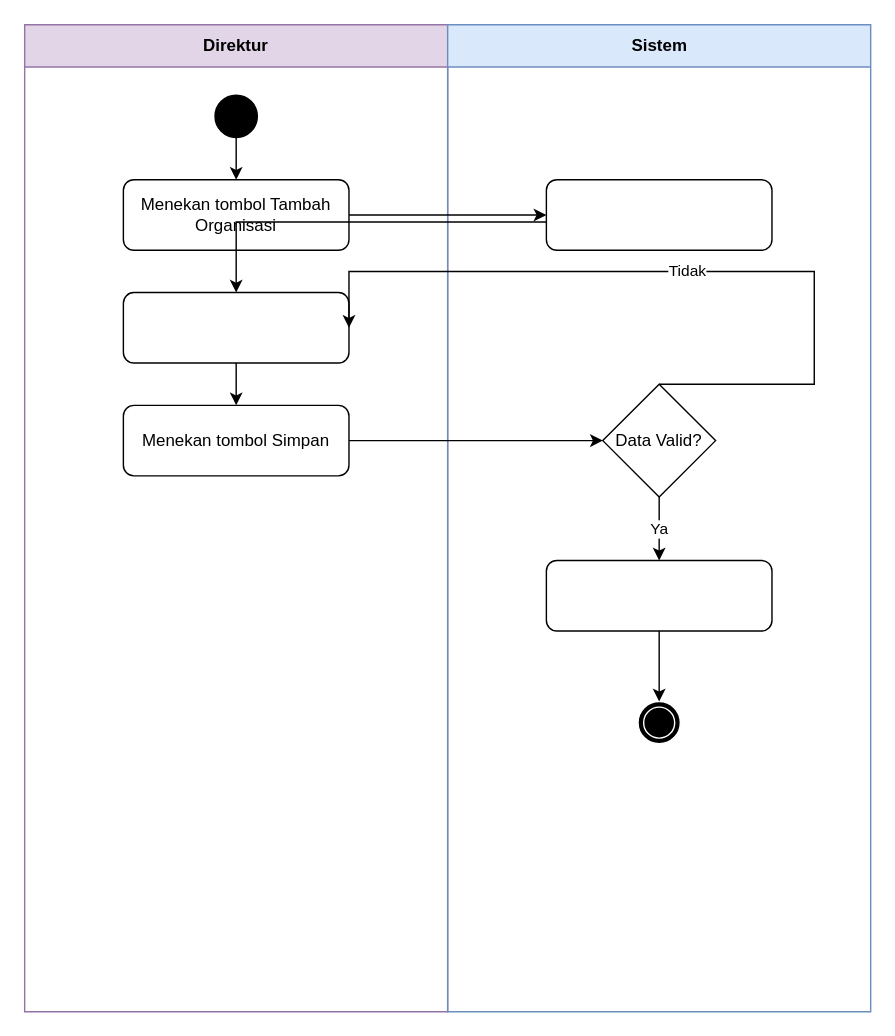
Image size: 895x1036. Some labels were removed from this diagram. The shapes that lost their labels are listed below. From the top down, each one's centre as x and y in pixels, then its label:
[658,214]: Menampilkan formulir
[235,327]: Mengisi nama dan alamat perusahaan
[658,595]: Mencatat organisasi baru
